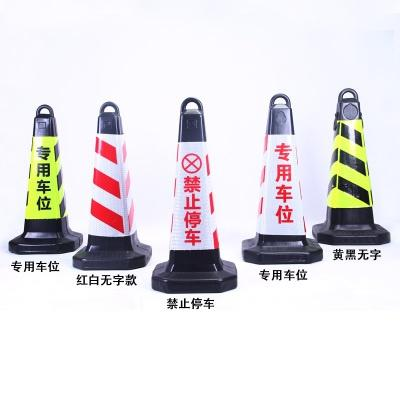cone_barrel: (154, 105, 235, 297), (310, 92, 391, 246), (75, 107, 152, 268), (243, 100, 316, 265), (8, 108, 81, 255)
